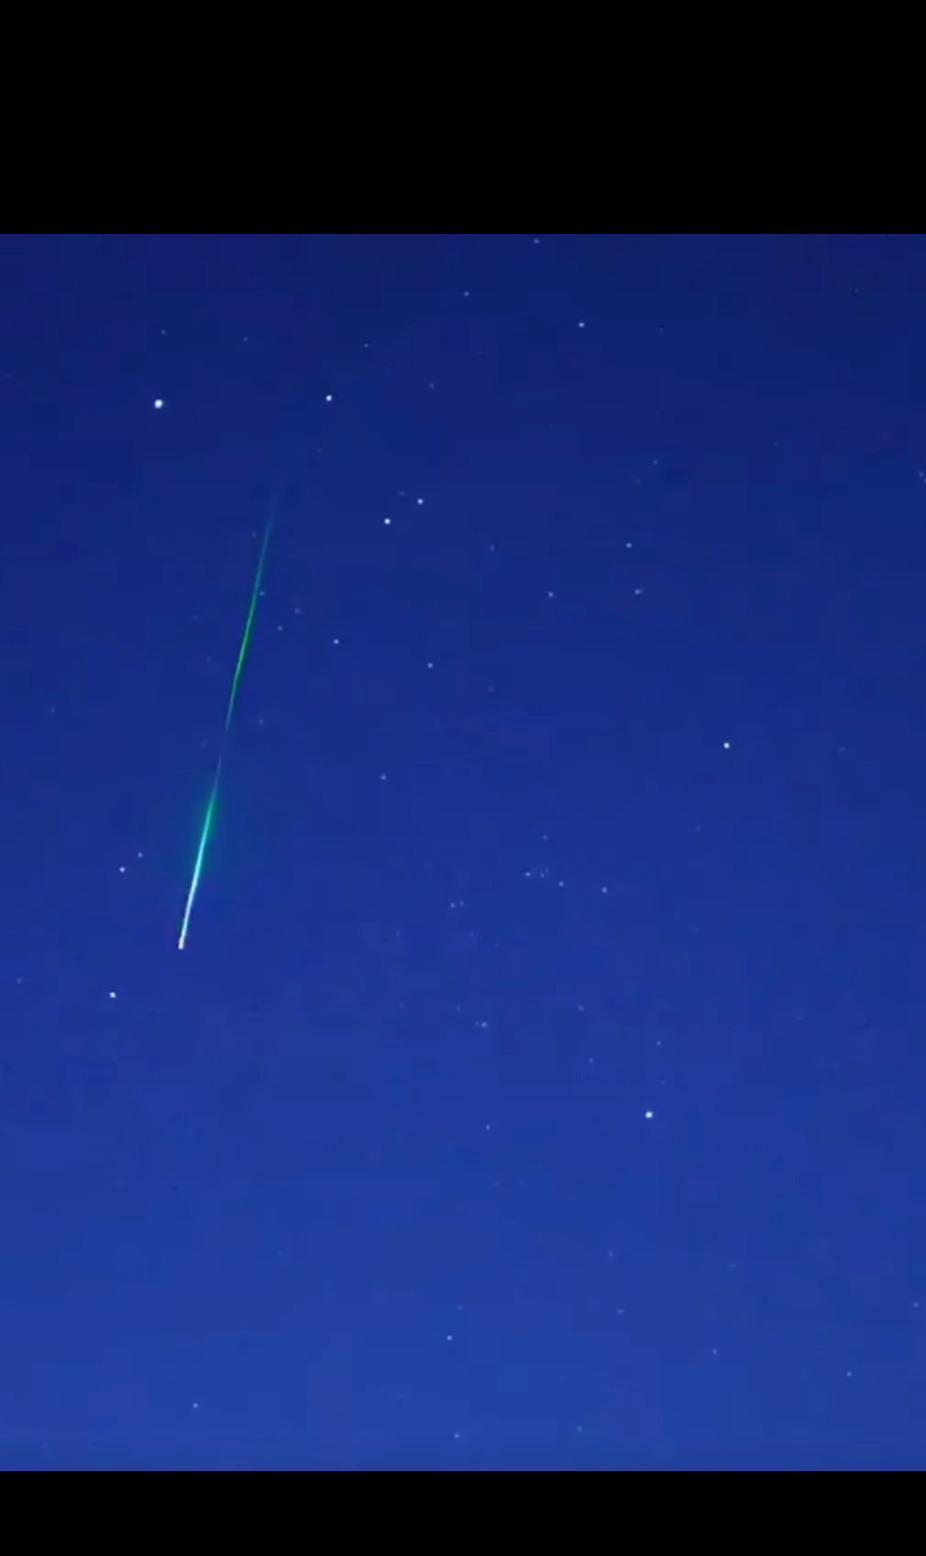meteorite: (151, 463, 298, 972)
